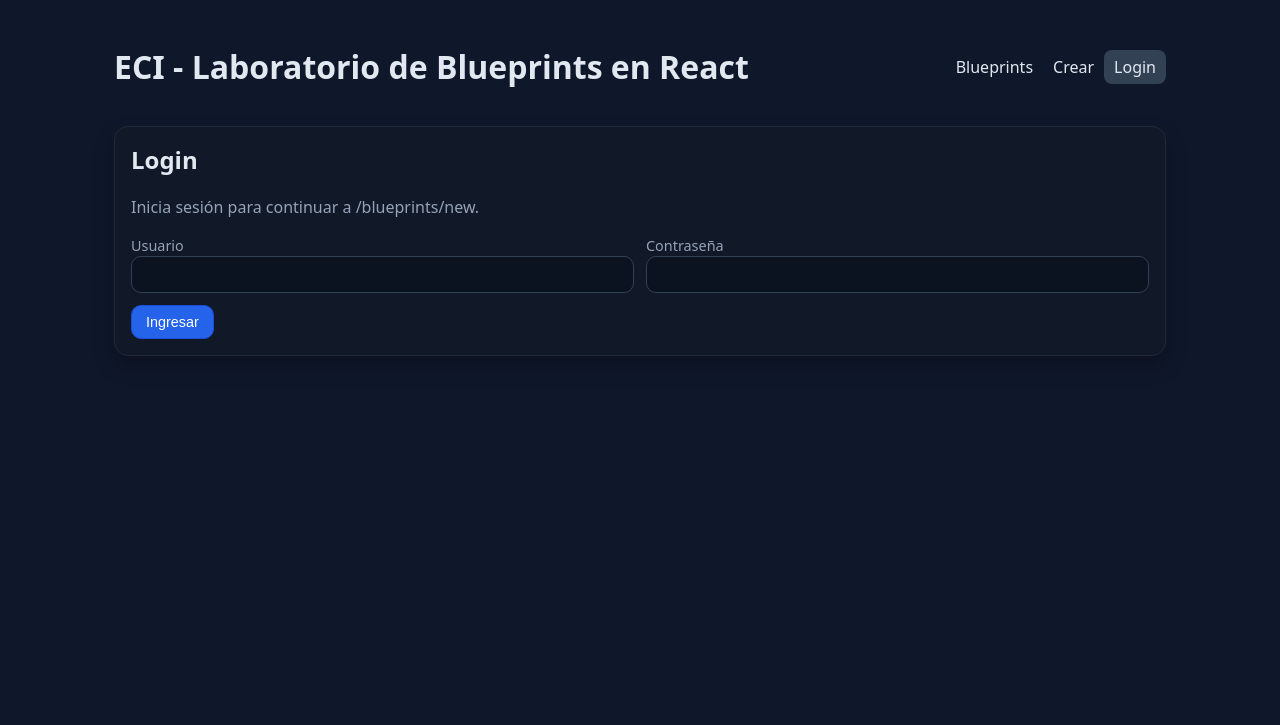
Test: Rutas protegidas (PrivateRoute + JWT) › tras el login guarda el JWT y vuelve a la ruta protegida
In the field labelled "Usuario": (382, 274) [131,256,634,293], type "student"
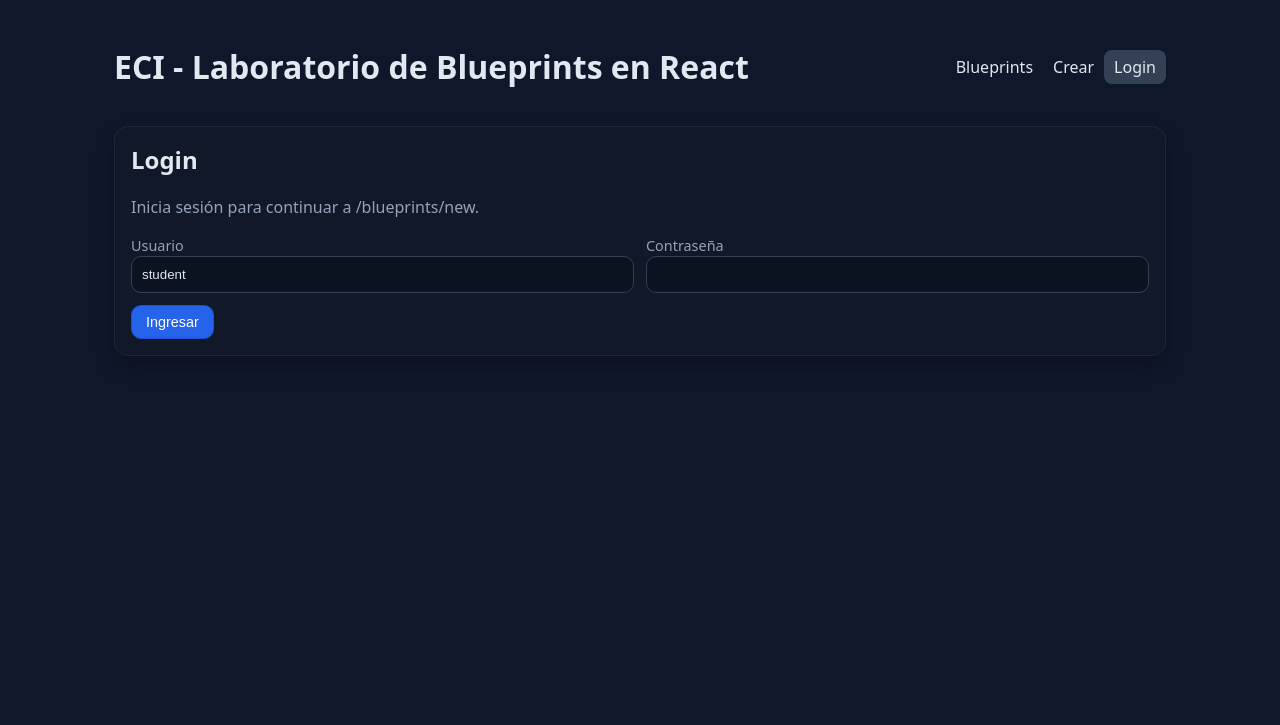
In the password field labelled "Contraseña": (898, 274) [646,256,1149,293], type "student123"
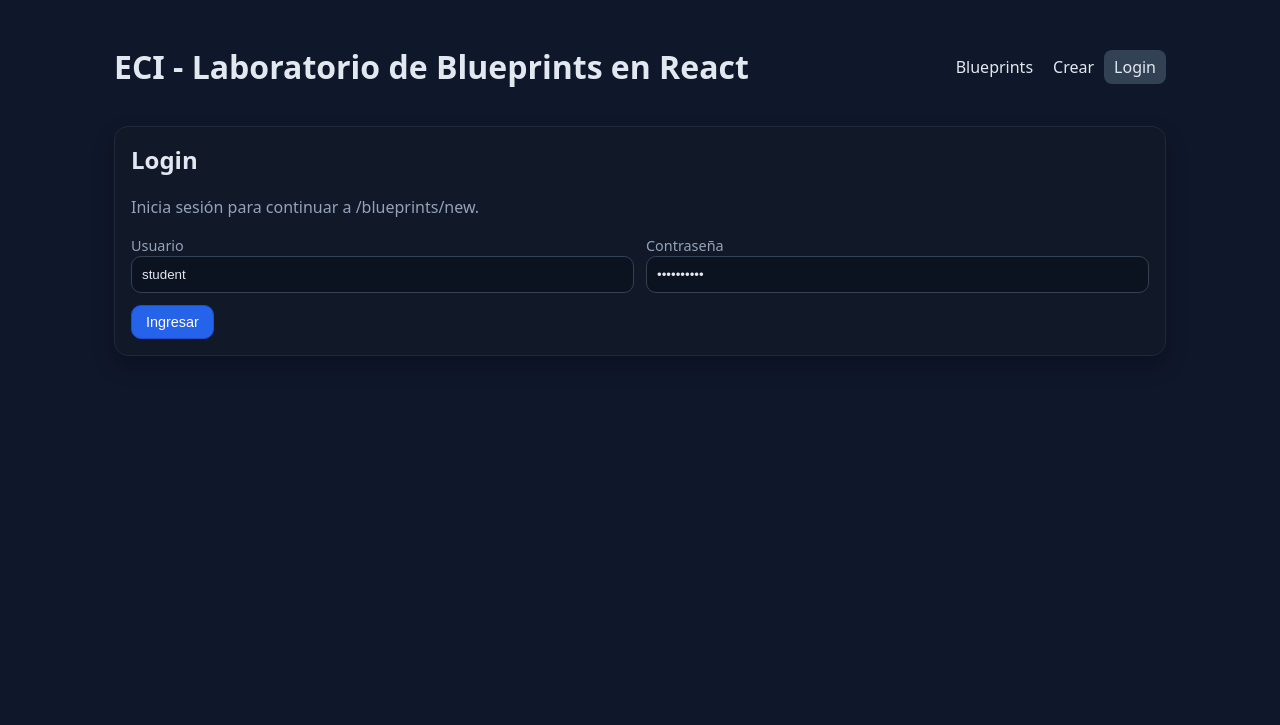
Click the button "Ingresar": click(172, 322) [131,305,214,339]
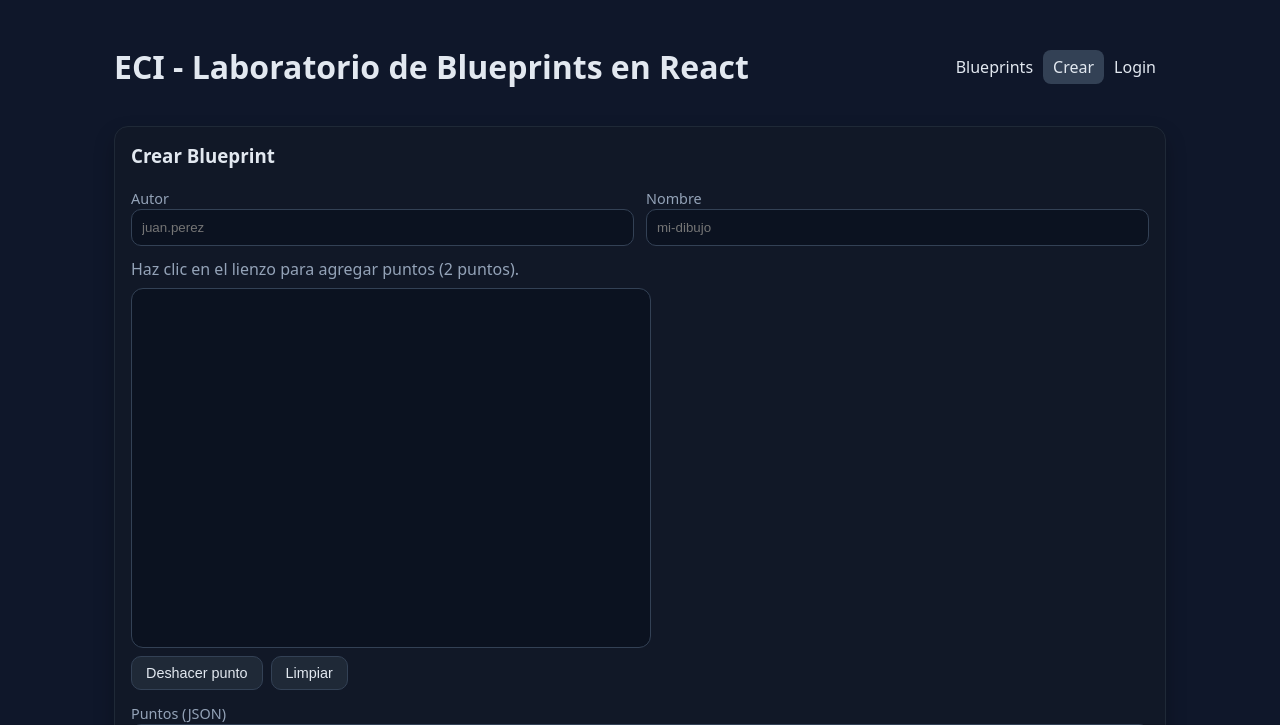
Expected: the heading "Crear Blueprint" is shown, [131,143,275,168]
